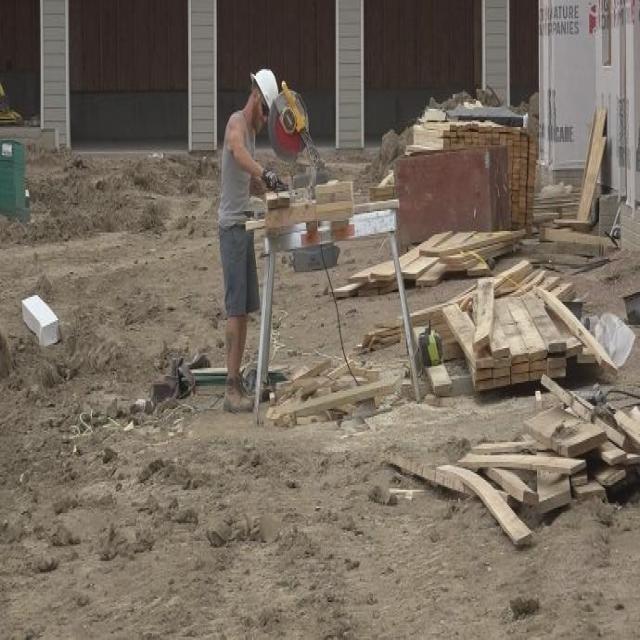Con_Casco: (249, 68, 279, 124)
